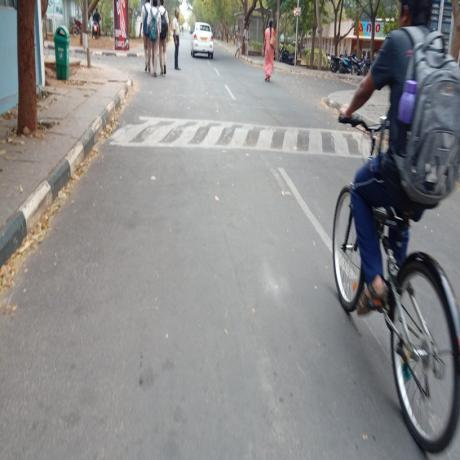Speed Bump: (117, 114, 377, 154)
